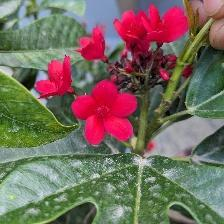jatropha: (76, 77, 142, 149)
